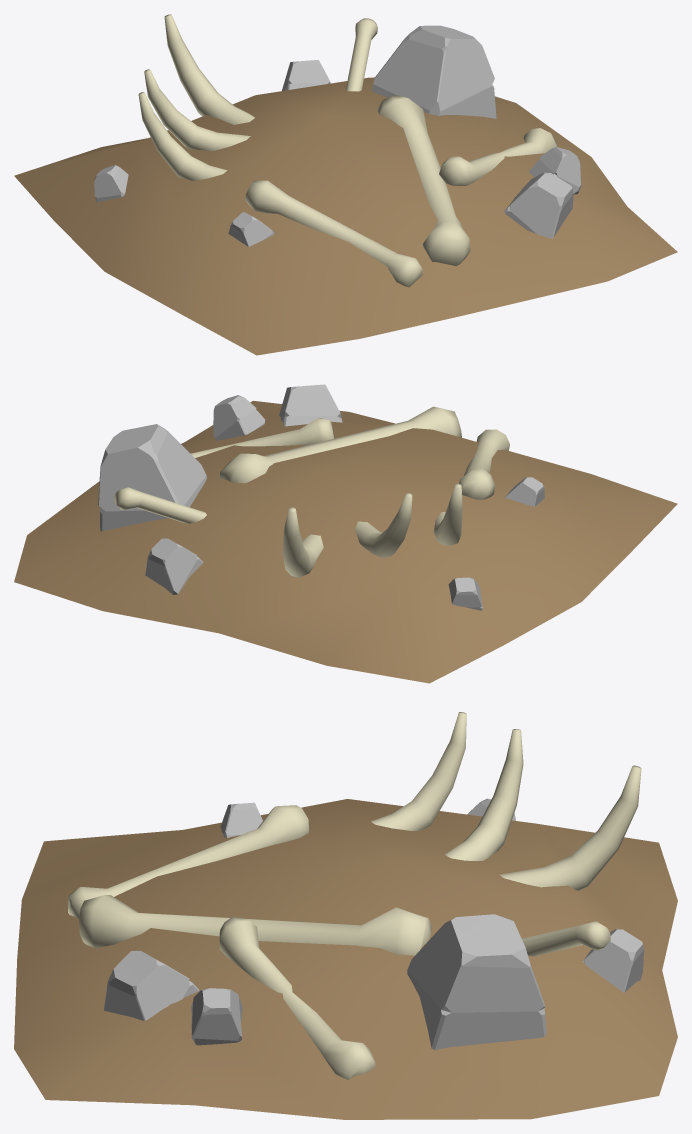
File: BonesBox_6.fbx
The picture shows the model from 3 angles, top to bottom: view 1: azimuth 30°, elevation 25°; view 2: azimuth 150°, elevation 25°; view 3: azimuth 270°, elevation 25°; orthographic projection. The views are drawn at different scales.
Visible parts, largest first — view 1: bones.005; view 2: bones.005; view 3: bones.005.
Part boxes in pixels (x1,y1,x2,y2): bones.005: (14, 14, 677, 355); bones.005: (14, 384, 677, 683); bones.005: (14, 712, 677, 1119).
Bounding box in the file's own units: 428 × 112 × 406.
